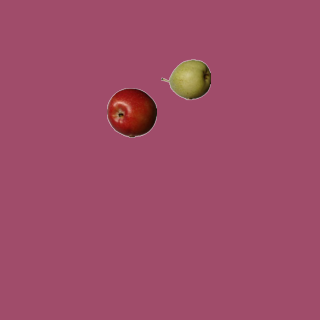Apple Braeburn: (106, 87, 156, 137)
Pear: (160, 54, 210, 104)
